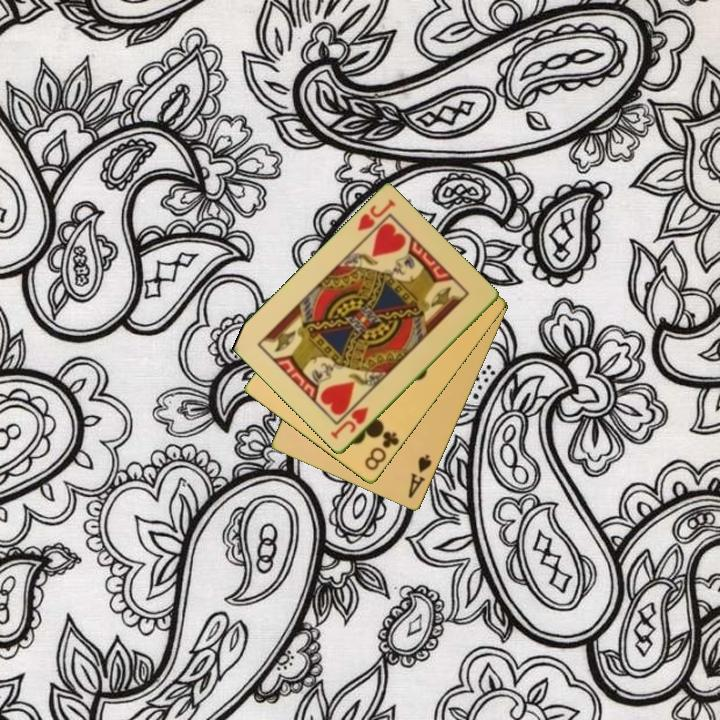8c: (361, 428, 402, 474)
As: (405, 451, 435, 502)
Jh: (354, 196, 399, 235), (327, 404, 371, 442)
